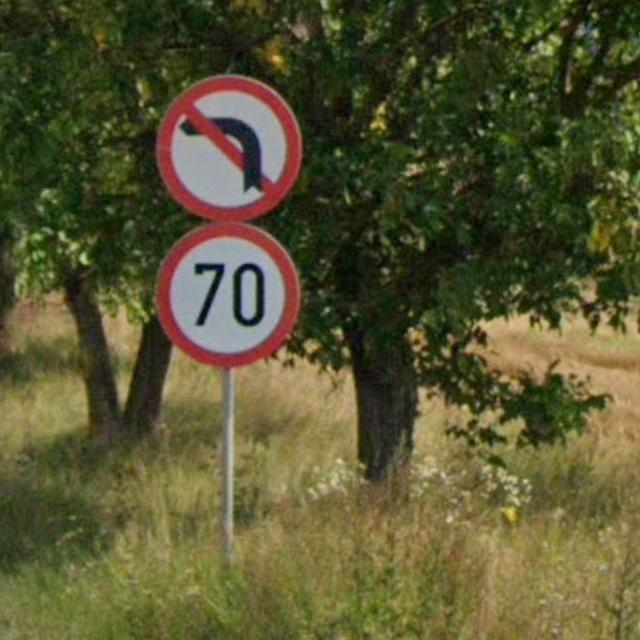forb_speed_over_70: (152, 218, 304, 365)
